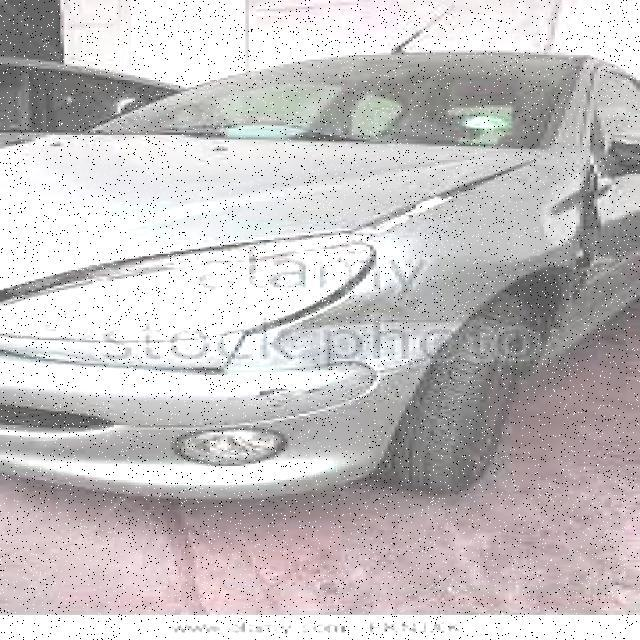car damage: (7, 157, 538, 314), (232, 285, 467, 421), (548, 159, 619, 306)
